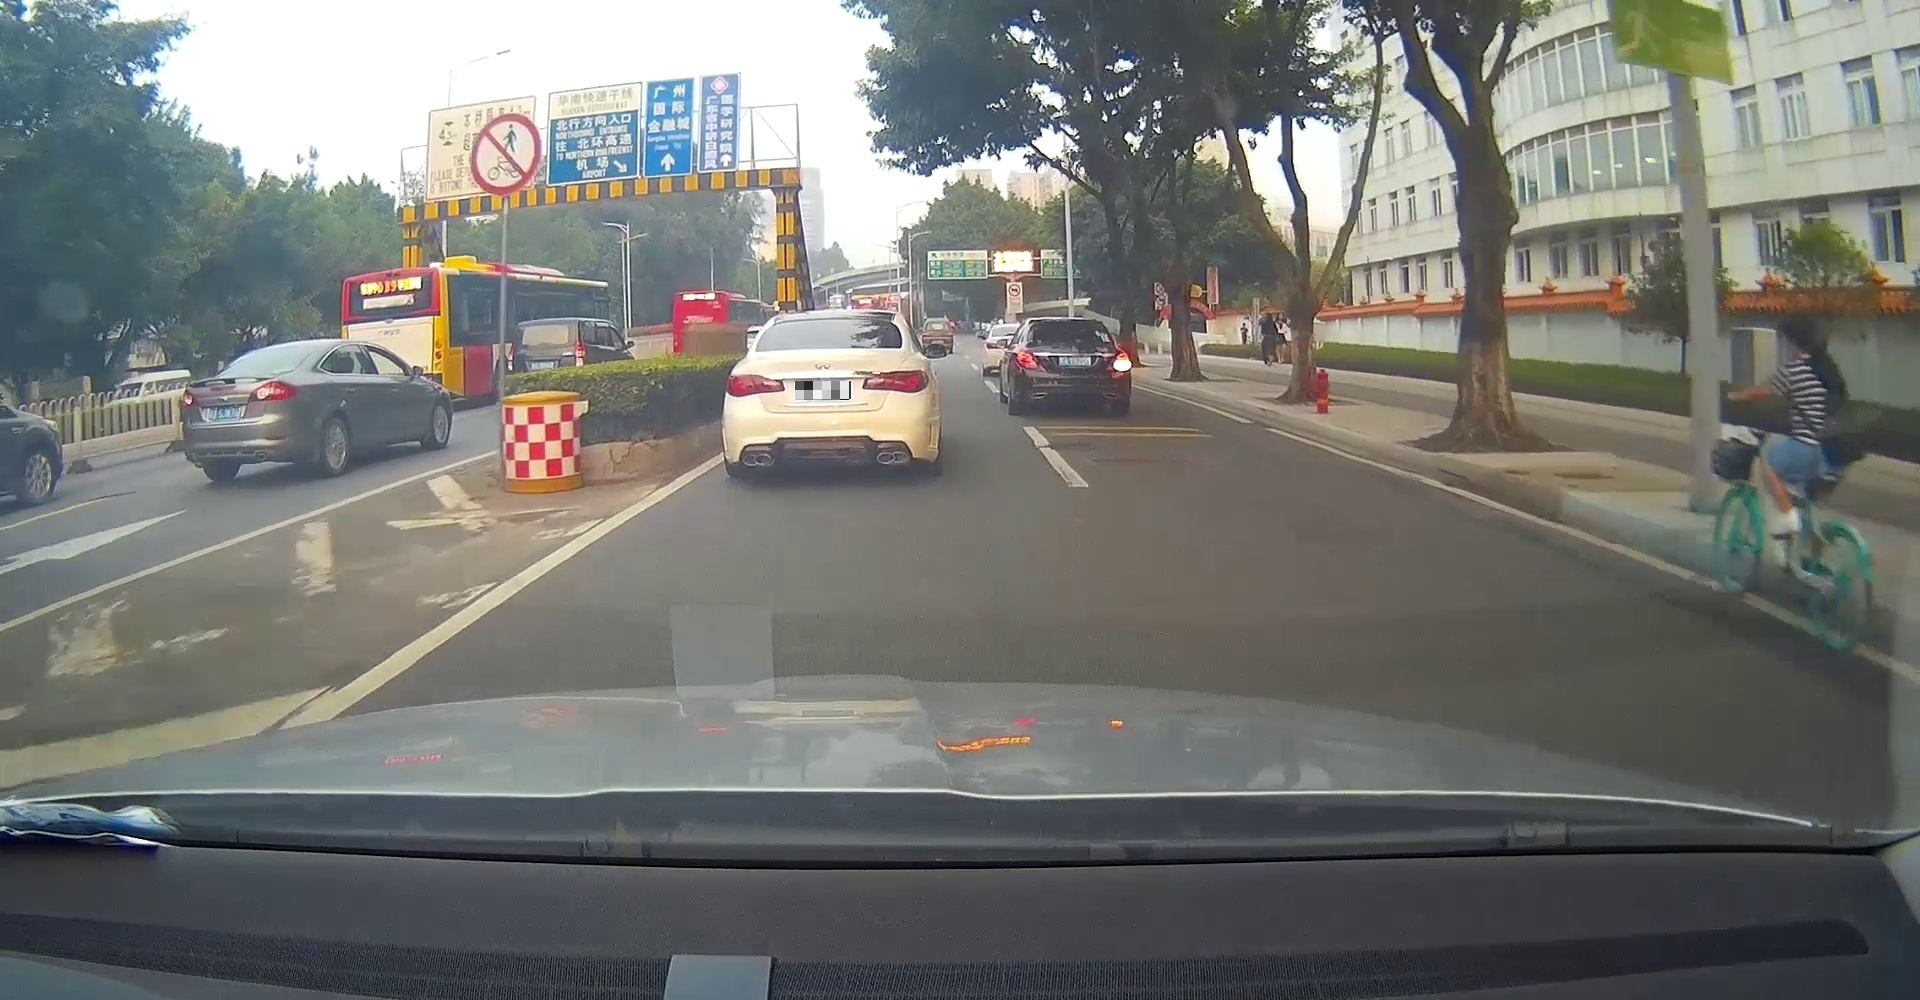L_light: (725, 374, 785, 397), (1017, 348, 1040, 371), (180, 390, 199, 409)
R_light: (862, 371, 928, 393), (248, 381, 297, 404), (1110, 353, 1131, 373)
T_light: (822, 319, 850, 324), (276, 346, 296, 352), (1059, 321, 1077, 325)
day-no: (721, 308, 938, 480), (179, 340, 326, 481)
day-right: (1012, 316, 1131, 416)
plate_1: (795, 381, 851, 400)
